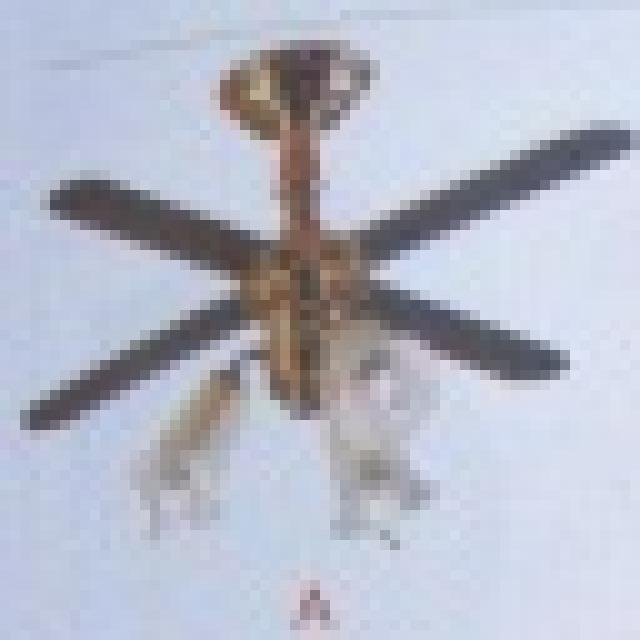Bulb: (33, 100, 637, 509)
